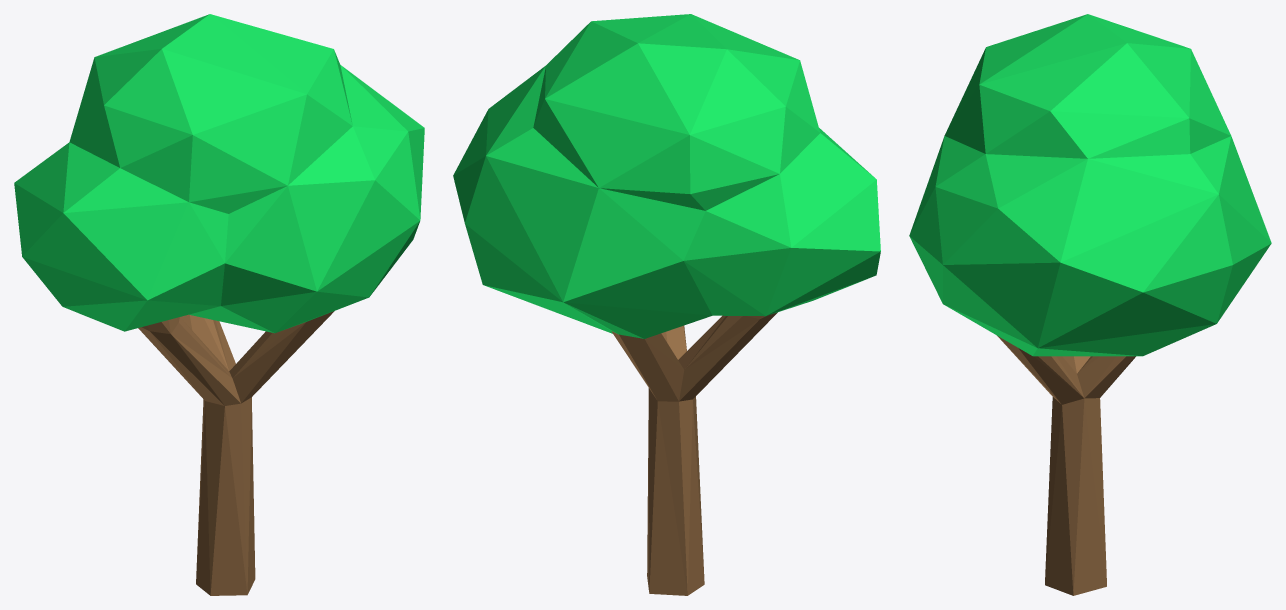
Rendered from treeDraco.glb.
3 views of the same model, side by side, from view 1: azimuth 30°, elevation 25°; view 2: azimuth 150°, elevation 25°; view 3: azimuth 270°, elevation 25° (orthographic). The views are drawn at different scales.
Parts seen in each view (by area): view 1: Icosphere; view 2: Icosphere; view 3: Icosphere.
Boxes of the visible parts, x1,y1,x2,y2 form: Icosphere: (14,14,424,595); Icosphere: (453,14,880,595); Icosphere: (909,14,1271,595).
Bounding box in the file's own units: 810 × 1079 × 651.
Materials: 1 (1 with a texture image).
